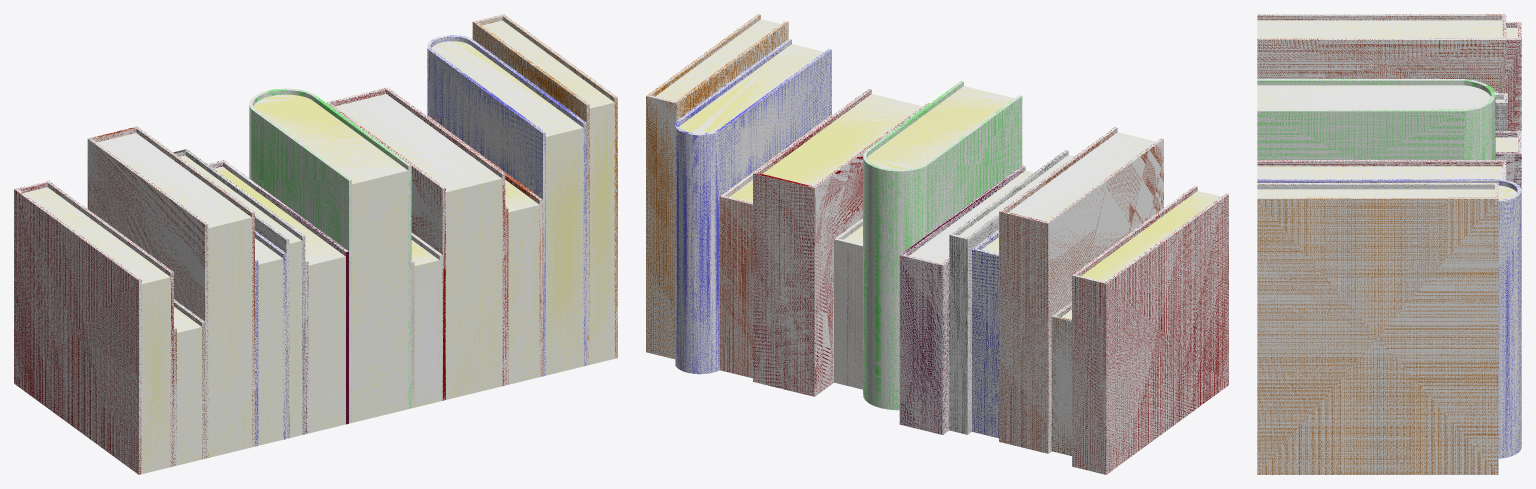
File: Books.fbx
3 views of the same model, side by side, from view 1: azimuth 30°, elevation 25°; view 2: azimuth 150°, elevation 25°; view 3: azimuth 270°, elevation 25° (orthographic). The views are drawn at different scales.
Parts seen in each view (by area): view 1: Model; view 2: Model; view 3: Model.
Part boxes in pixels (bbox=[...]): Model: bbox=[14, 14, 617, 474]; Model: bbox=[646, 14, 1228, 474]; Model: bbox=[1257, 14, 1521, 474].
Bounding box in the file's own units: 76.59 × 39.83 × 34.56.
